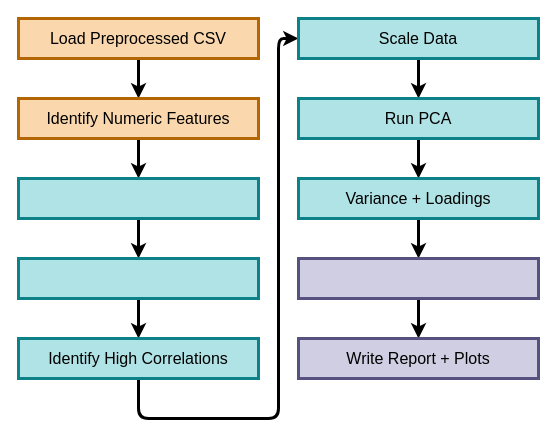
Some shapes in this 557 by 445 pixel diagram are drawn without their labels. The centre of each missing label's shape, as x and y in pixels:
"Assemble Report" belongs at pixel 418 278.
"Compute Correlation Matrix" belongs at pixel 138 278.
"Compute Feature Stats" belongs at pixel 138 198.
